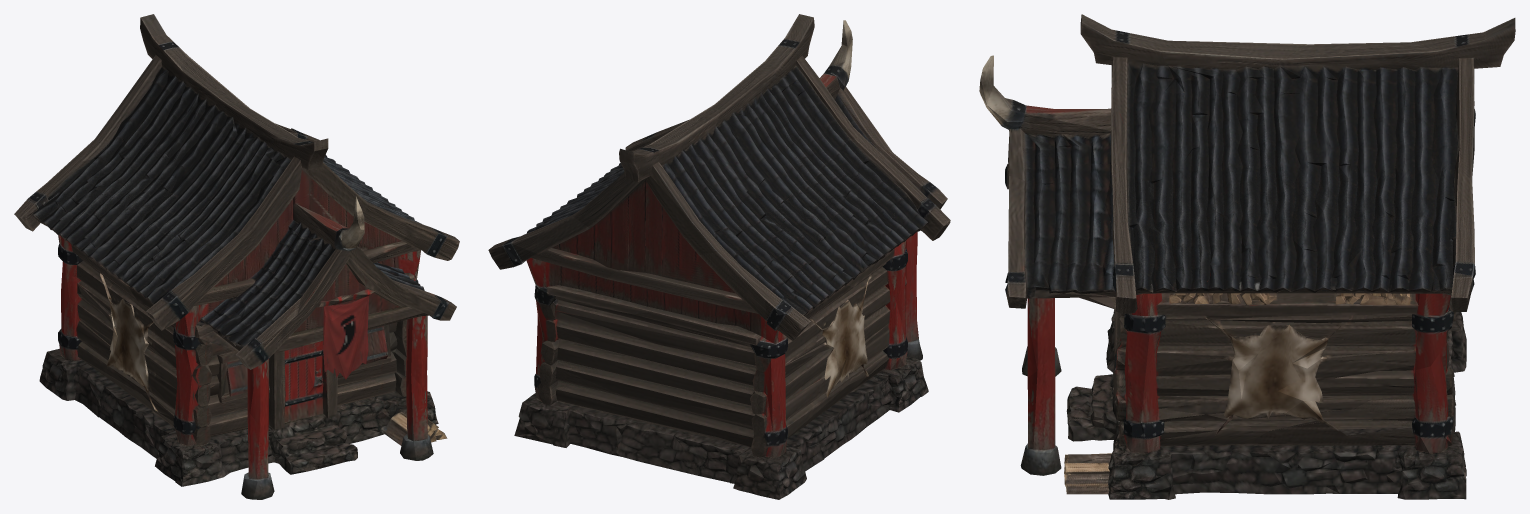
Rendered from house_timber_a.glb.
The picture shows the model from 3 angles, left to right: view 1: azimuth 30°, elevation 25°; view 2: azimuth 150°, elevation 25°; view 3: azimuth 270°, elevation 25°; orthographic projection. The views are drawn at different scales.
Visible parts, largest first — view 1: house_timber_a; view 2: house_timber_a; view 3: house_timber_a.
Boxes of the visible parts, x1,y1,x2,y2 form: house_timber_a: (14, 14, 459, 499); house_timber_a: (488, 14, 950, 499); house_timber_a: (979, 14, 1515, 499).
Size of the model in its own units: 7.47 by 7.5 by 9.03.
1 material, 1 textured.
